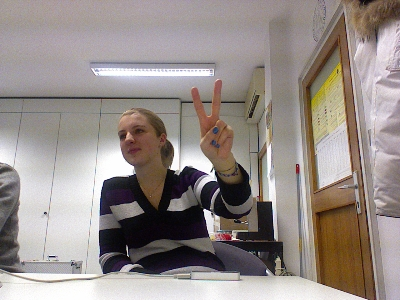剪刀: (188, 77, 233, 164)
